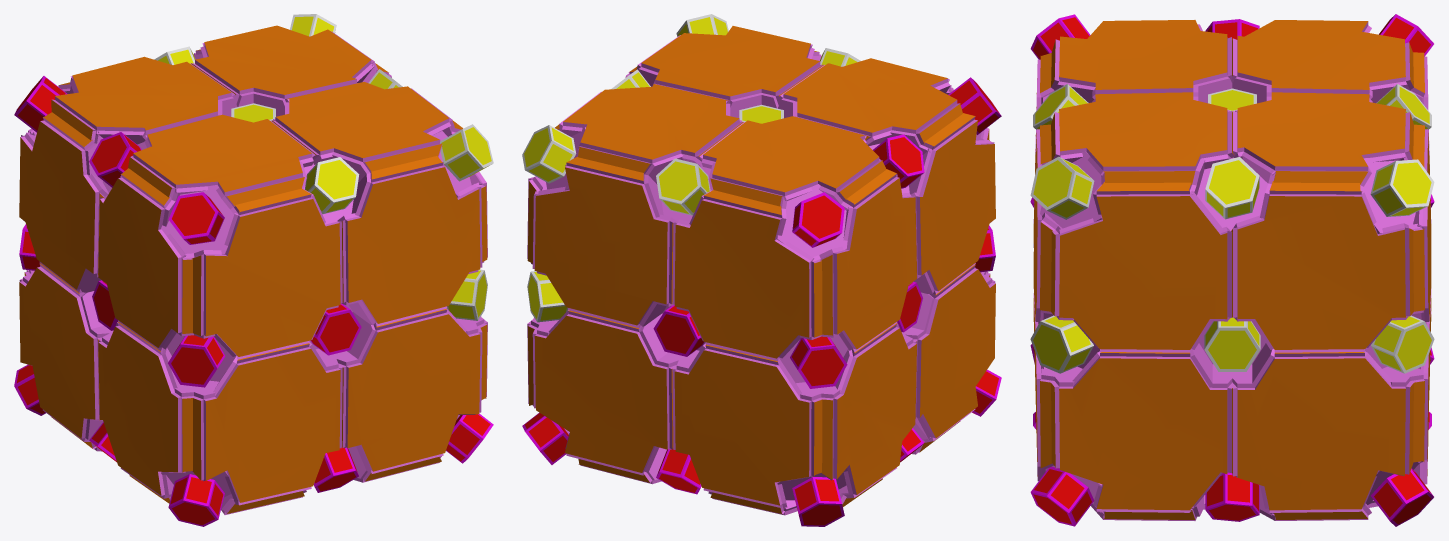
The model's file is Cube_LowRes_v01.FBX.
The picture shows the model from 3 angles, left to right: view 1: azimuth 30°, elevation 25°; view 2: azimuth 150°, elevation 25°; view 3: azimuth 270°, elevation 25°; orthographic projection. The views are drawn at different scales.
Visible parts, largest first — view 1: GEARS; view 2: GEARS; view 3: GEARS.
Boxes of the visible parts, x1,y1,x2,y2 form: GEARS: [14, 14, 493, 526]; GEARS: [522, 14, 1001, 526]; GEARS: [1030, 14, 1434, 526].
Bounding box in the file's own units: 10.77 × 10.76 × 10.77.
